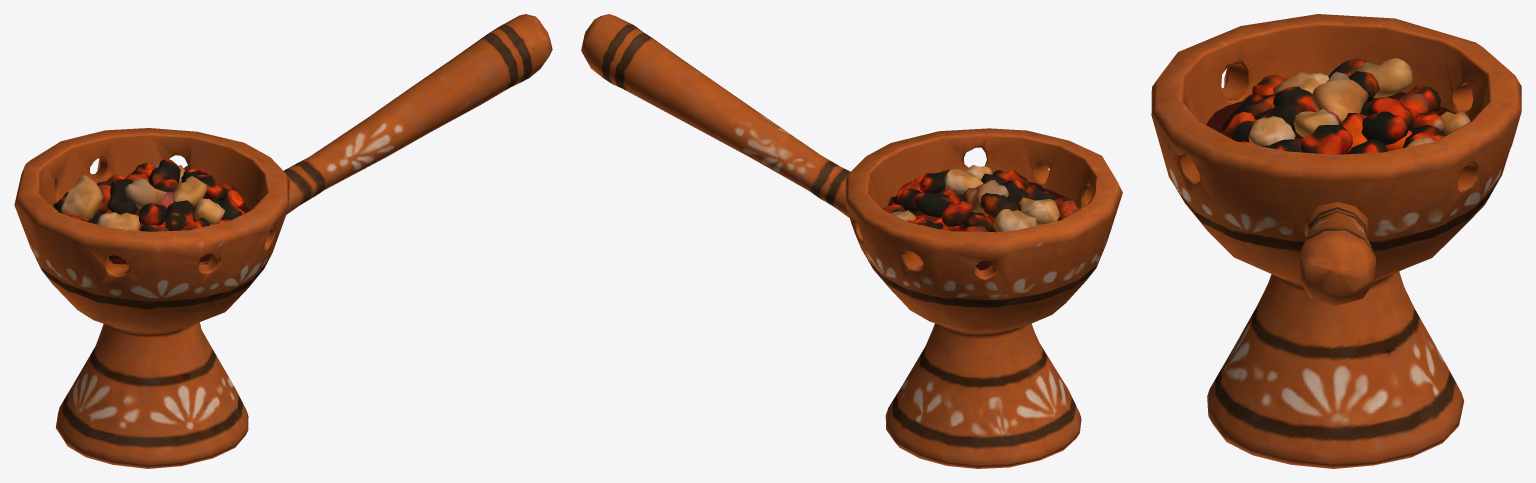
Rendered from Meshy_AI_Clay_Sahumador_20261111_texture.obj.
The picture shows the model from 3 angles, left to right: view 1: azimuth 30°, elevation 25°; view 2: azimuth 150°, elevation 25°; view 3: azimuth 270°, elevation 25°; orthographic projection. The views are drawn at different scales.
Parts seen in each view (by area): view 1: Meshy_AI_Clay_Sahumador_20261111_texture; view 2: Meshy_AI_Clay_Sahumador_20261111_texture; view 3: Meshy_AI_Clay_Sahumador_20261111_texture.
Part boxes in pixels (x1,y1,x2,y2): Meshy_AI_Clay_Sahumador_20261111_texture: (14, 14, 552, 468); Meshy_AI_Clay_Sahumador_20261111_texture: (581, 14, 1122, 468); Meshy_AI_Clay_Sahumador_20261111_texture: (1151, 14, 1521, 468).
Bounding box in the file's own units: 0.9556 × 0.5649 × 0.4448.
1 material, 1 textured.
